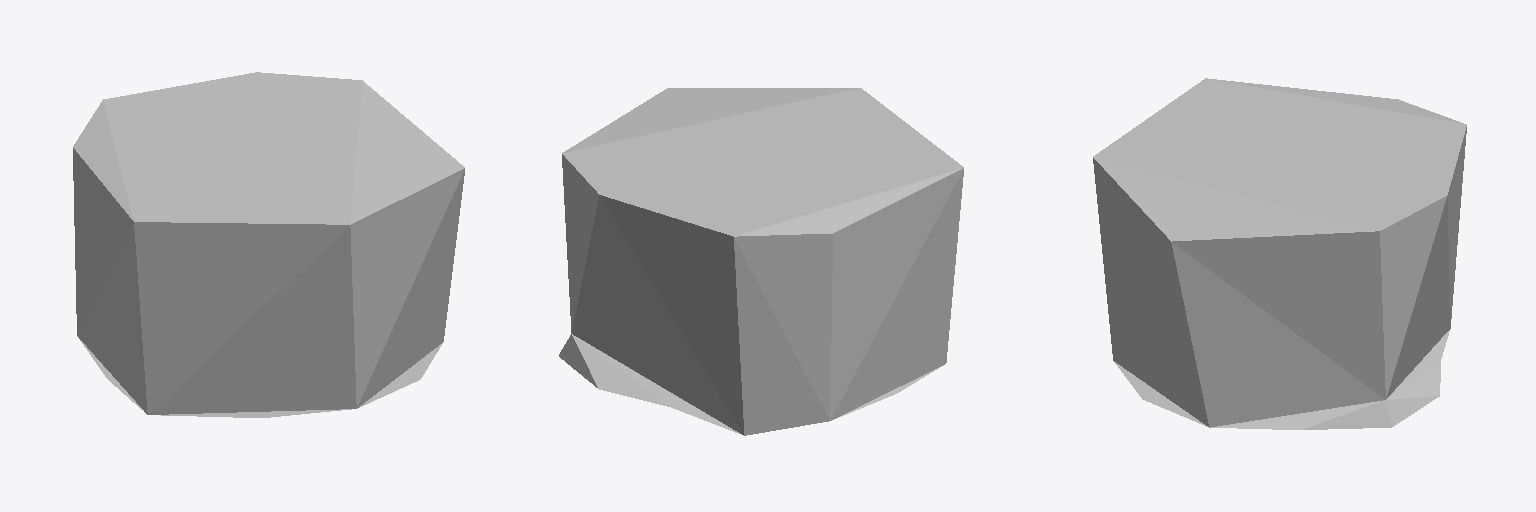
Rendered from Mesh_CavePack_Platform1_lod2.obj.
3 views of the same model, side by side, from view 1: azimuth 30°, elevation 25°; view 2: azimuth 150°, elevation 25°; view 3: azimuth 270°, elevation 25° (orthographic).
Parts seen in each view (by area): view 1: Circle; view 2: Circle; view 3: Circle.
Boxes of the visible parts, box(x1,y1,x2,y2) form: Circle: box(73, 72, 464, 417); Circle: box(559, 88, 963, 435); Circle: box(1093, 78, 1466, 429).
Size of the model in its own units: 7.39 by 4.54 by 7.53.